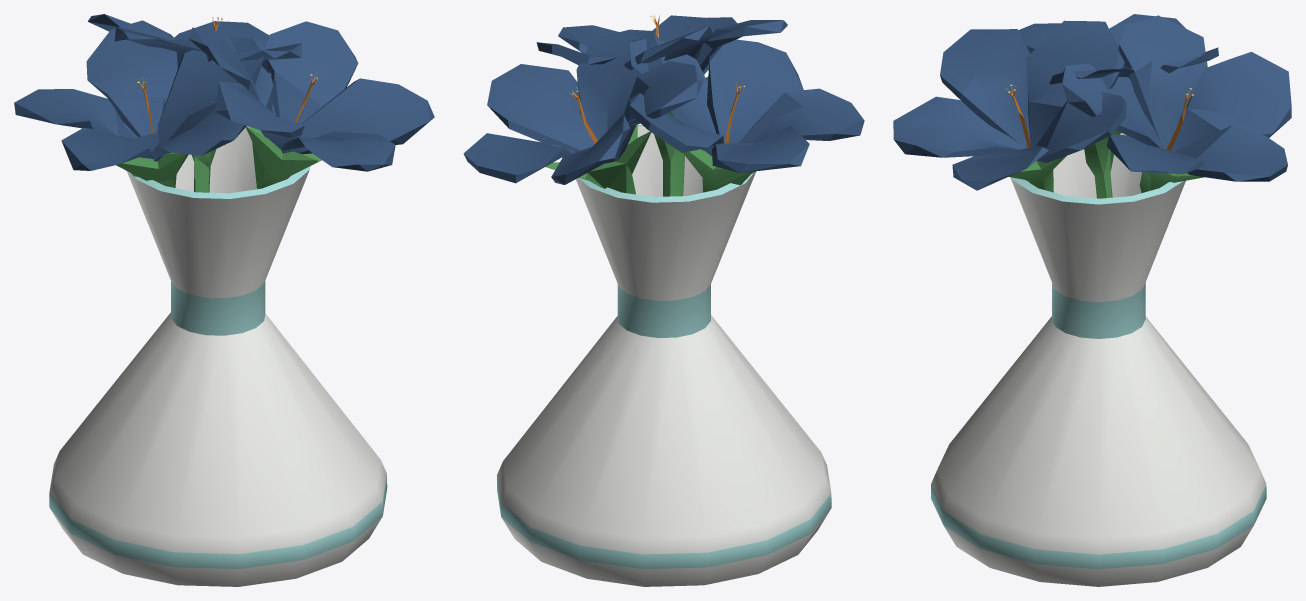
File: HibiscoAzul.fbx
3 renders of one model, left to right at view 1: azimuth 30°, elevation 25°; view 2: azimuth 150°, elevation 25°; view 3: azimuth 270°, elevation 25°, orthographic.
Visible parts, largest first — view 1: HibiscoAzul; view 2: HibiscoAzul; view 3: HibiscoAzul.
Part boxes in pixels (left/top/right/bottom): HibiscoAzul: left=14, top=14, right=434, bottom=586; HibiscoAzul: left=463, top=15, right=864, bottom=586; HibiscoAzul: left=893, top=14, right=1291, bottom=586.
Bounding box in the file's own units: 0.2685 × 0.3895 × 0.2874.
